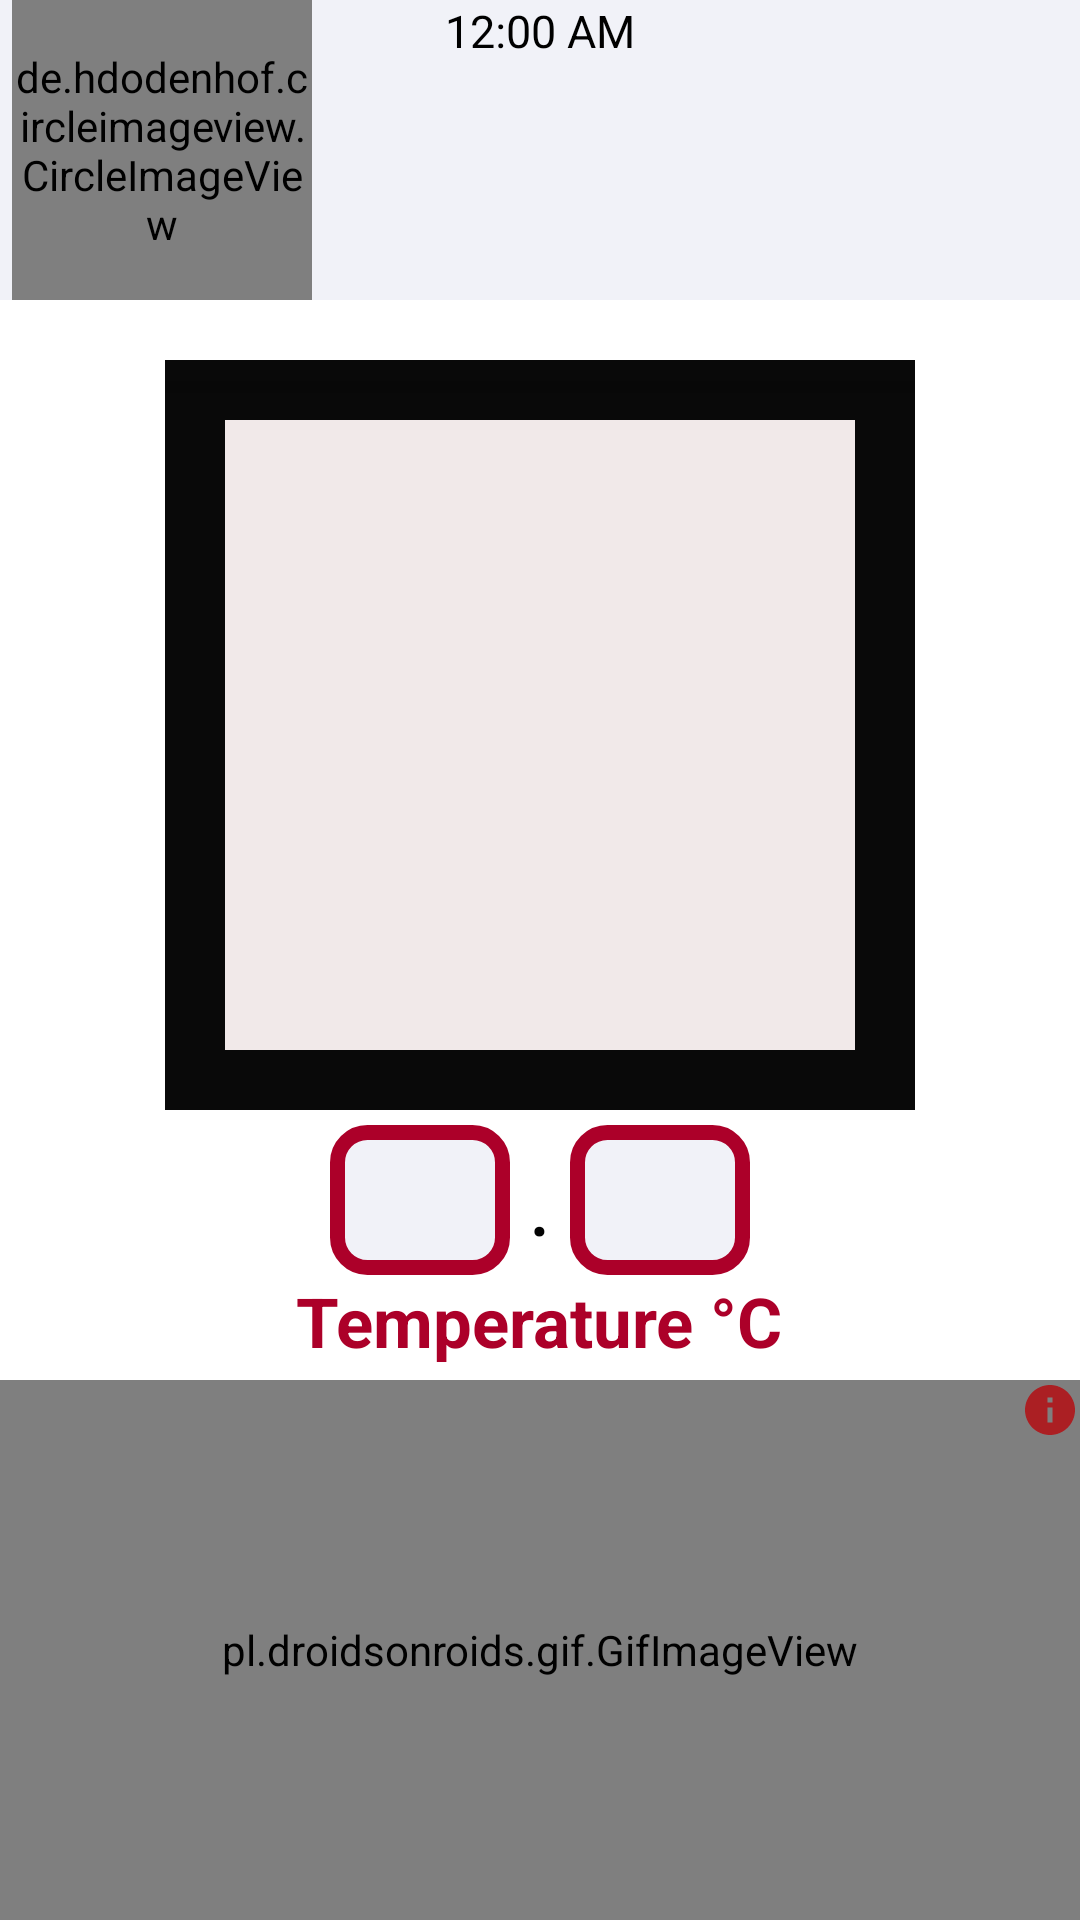

Icon bounding boxes for this 1080px x 1920px phone screenshot, format (x1, y1, x2, y2):
info: (1025, 1385, 1075, 1435)
